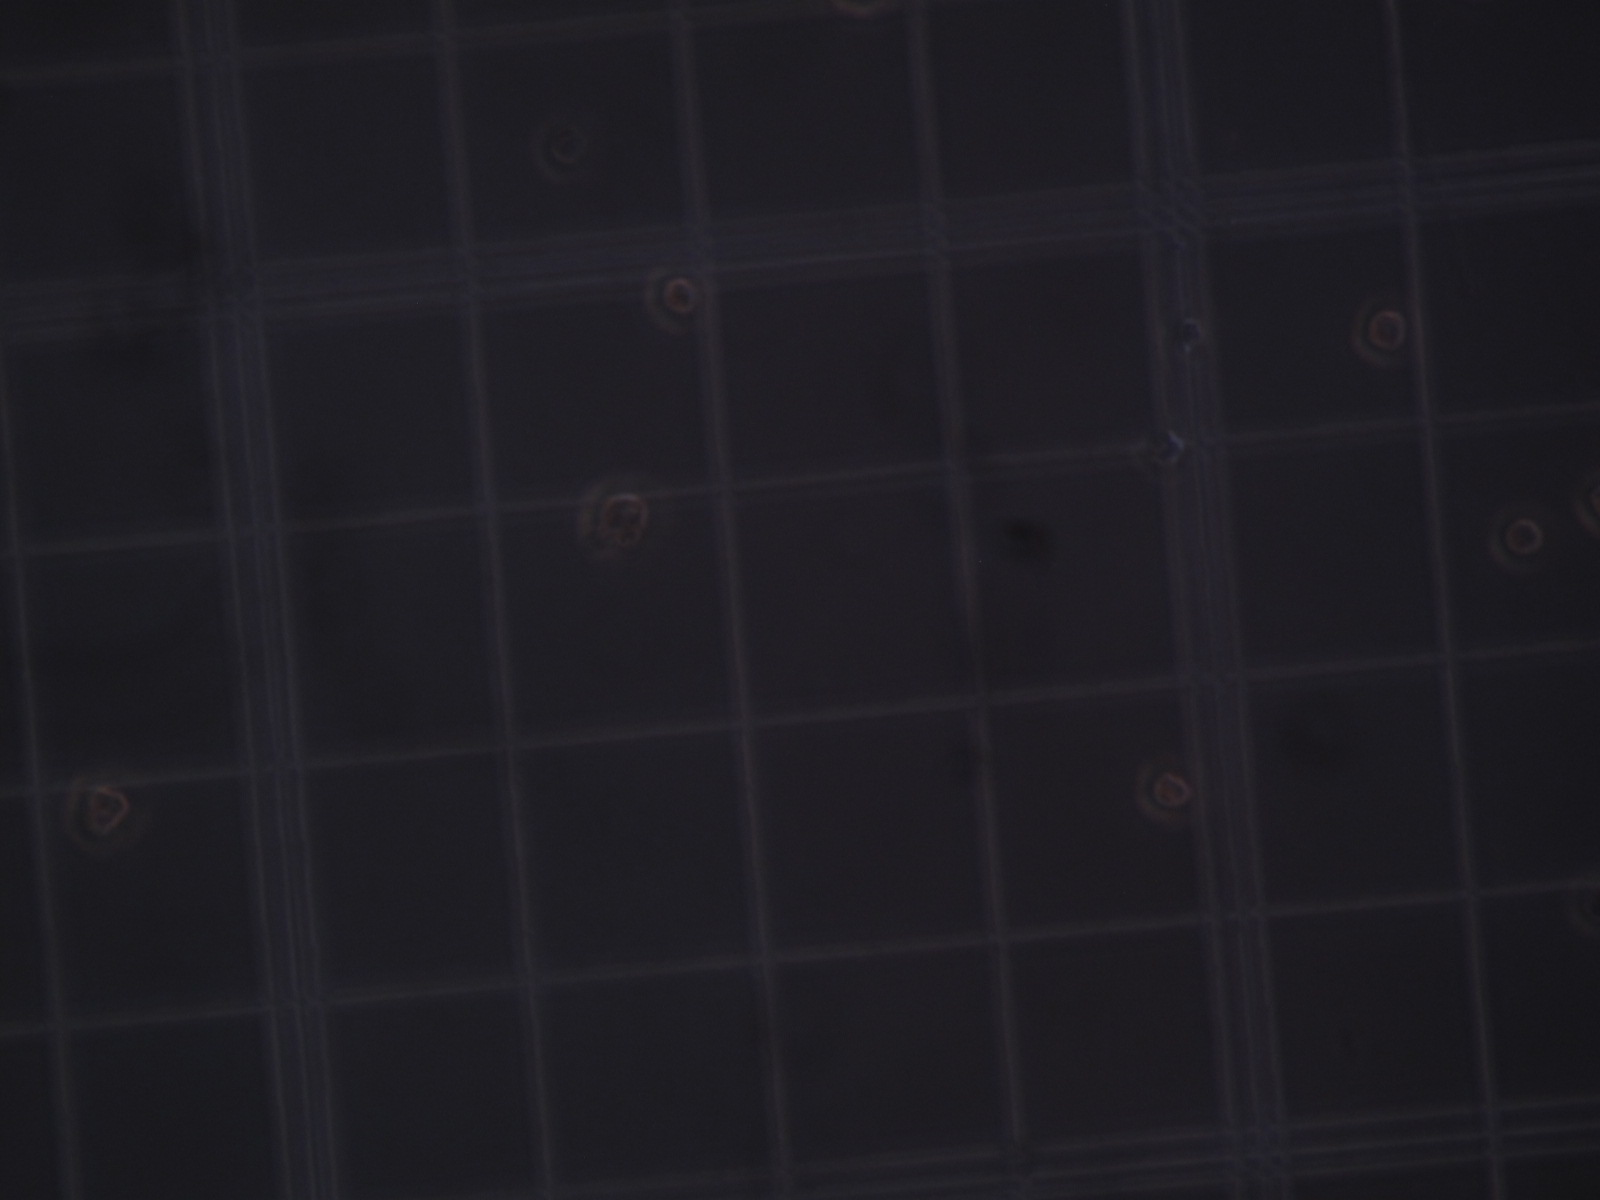hemo: (576, 476, 648, 550), (66, 770, 129, 850), (1354, 295, 1409, 373), (644, 267, 704, 332), (535, 118, 595, 184), (1490, 508, 1545, 566), (1134, 766, 1192, 819), (1134, 427, 1189, 479)
